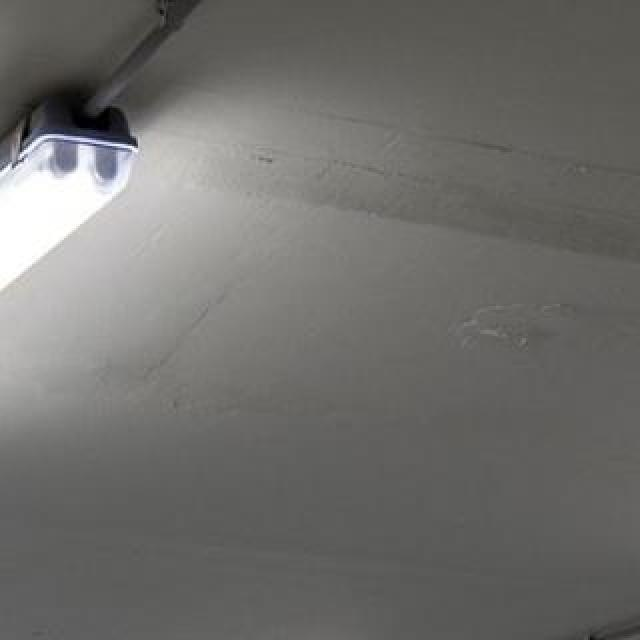fluorescent tube: (0, 84, 152, 522)
